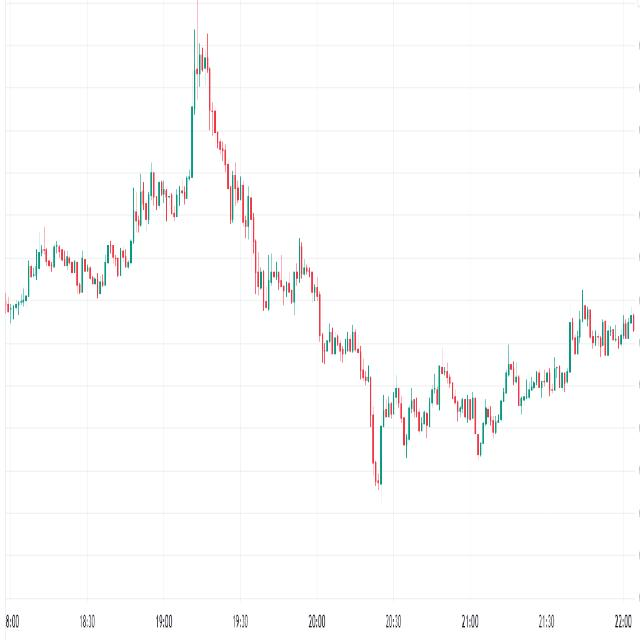Head-Shoulders: (125, 22, 268, 322)
